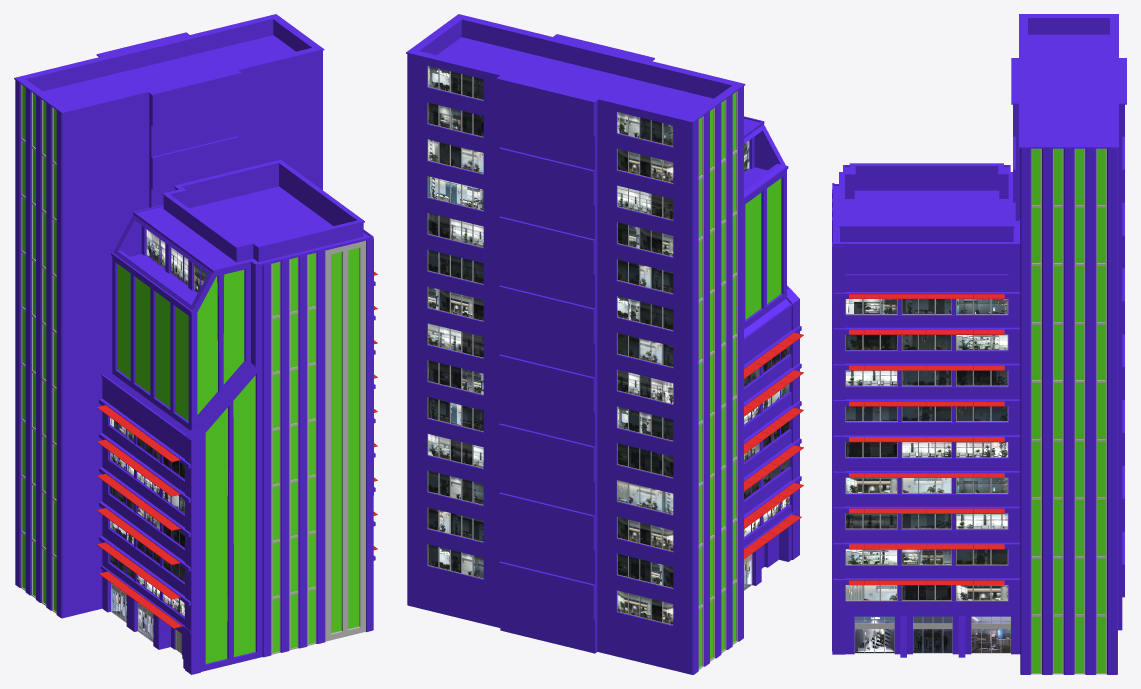
The picture shows the model from 3 angles, left to right: view 1: azimuth 30°, elevation 25°; view 2: azimuth 150°, elevation 25°; view 3: azimuth 270°, elevation 25°; orthographic projection. The views are drawn at different scales.
Visible parts, largest first — view 1: Desirefx.me_MediumG_Asphalt; view 2: Desirefx.me_MediumG_Asphalt; view 3: Desirefx.me_MediumG_Asphalt.
Part boxes in pixels (x1,y1,x2,y2): Desirefx.me_MediumG_Asphalt: [14, 14, 377, 674]; Desirefx.me_MediumG_Asphalt: [406, 14, 803, 674]; Desirefx.me_MediumG_Asphalt: [832, 14, 1126, 674].
Bounding box in the file's own units: 4541 × 8378 × 4242.
